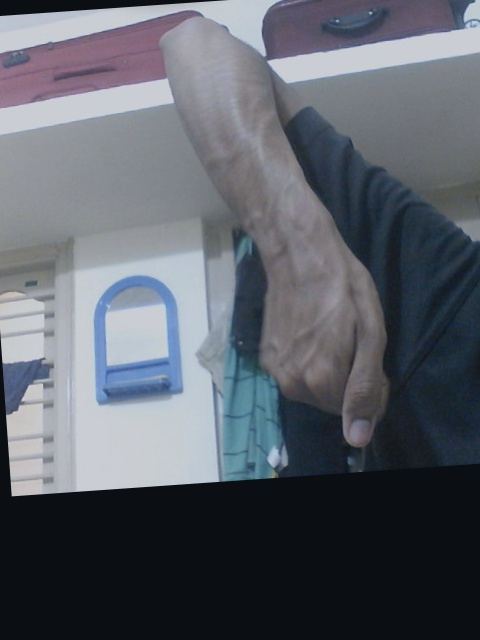hand: (253, 237, 395, 457)
